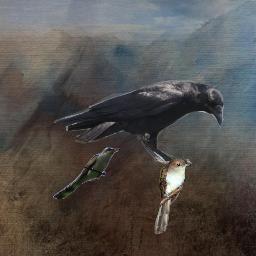Crow: (53, 80, 224, 164)
Cuckoo: (53, 147, 120, 199), (154, 158, 191, 234)
